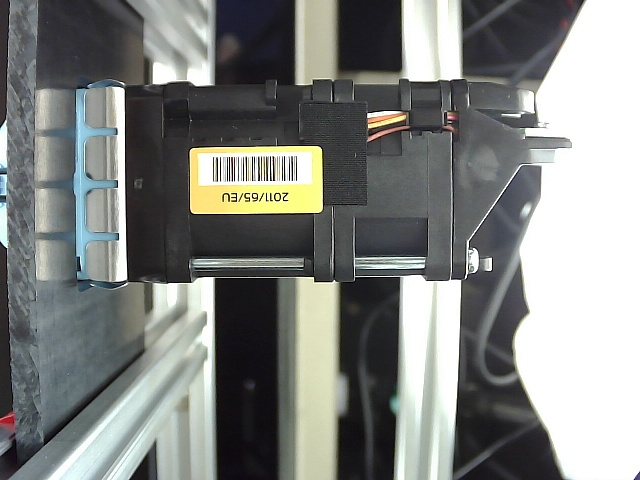1_0: (63, 48, 587, 311)
